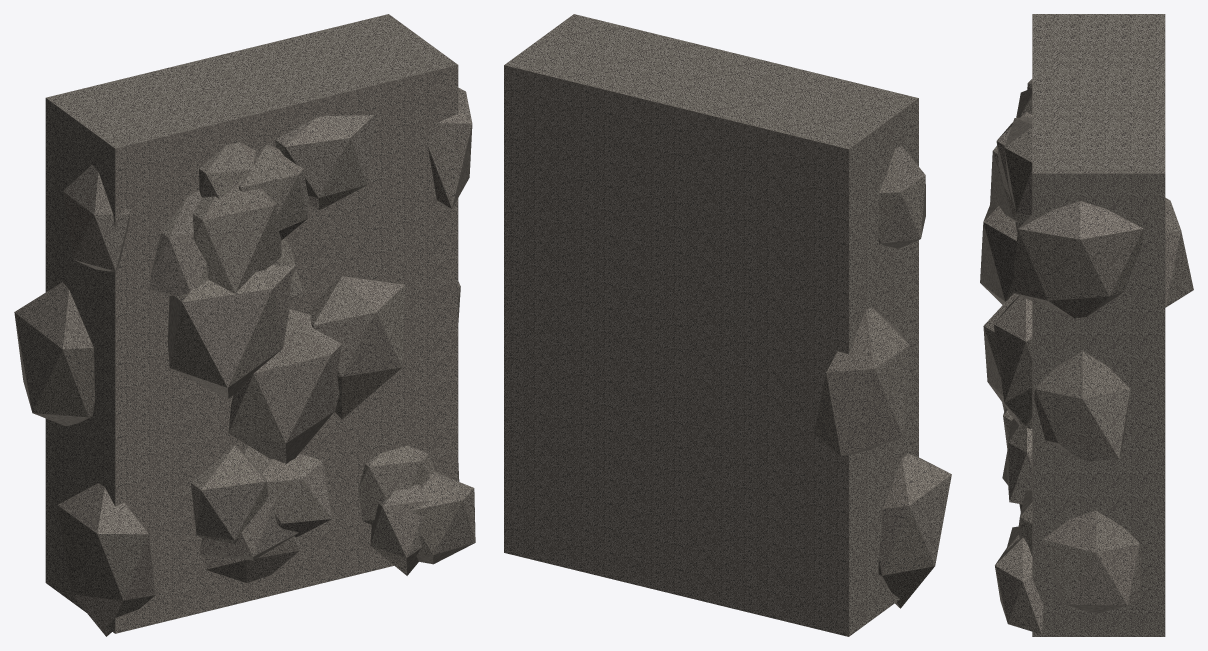
The model's file is cave_chimney_stone.glb.
3 views of the same model, side by side, from view 1: azimuth 30°, elevation 25°; view 2: azimuth 150°, elevation 25°; view 3: azimuth 270°, elevation 25° (orthographic). The views are drawn at different scales.
Parts seen in each view (by area): view 1: Body.001; view 2: Body.001; view 3: Body.001.
Part boxes in pixels (<box>): Body.001: <box>14,14,475,636</box>; Body.001: <box>504,14,951,636</box>; Body.001: <box>980,14,1193,636</box>.
Size of the model in its own units: 8.83 by 10.29 by 4.19.
Materials: 1 (1 with a texture image).
